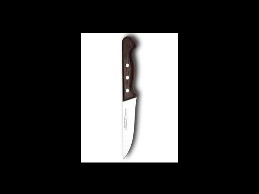k1: (118, 92, 139, 160)
